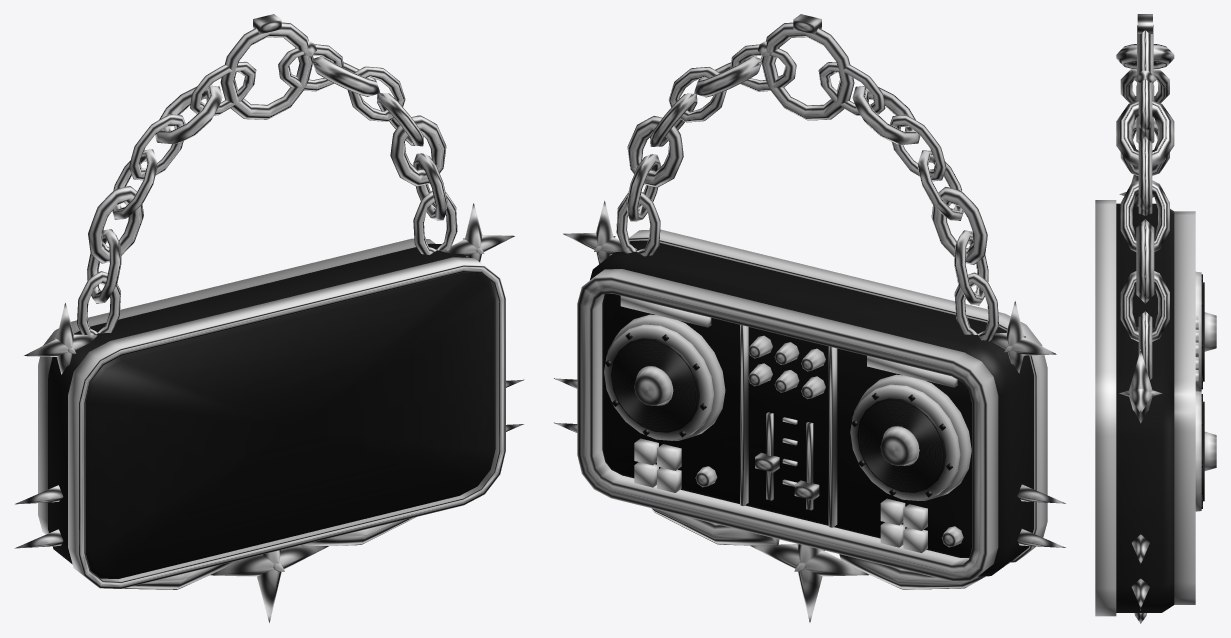
The model's file is DJBag_UGC.fbx.
3 renders of one model, left to right at view 1: azimuth 30°, elevation 25°; view 2: azimuth 150°, elevation 25°; view 3: azimuth 270°, elevation 25°, orthographic.
Parts seen in each view (by area): view 1: DJBag_v5; view 2: DJBag_v5; view 3: DJBag_v5.
Boxes of the visible parts, <box> form: DJBag_v5: <box>14,14,524,623</box>; DJBag_v5: <box>553,14,1065,622</box>; DJBag_v5: <box>1095,14,1216,623</box>.
Bounding box in the file's own units: 3.88 × 4.38 × 0.8.
1 material, 1 textured.
